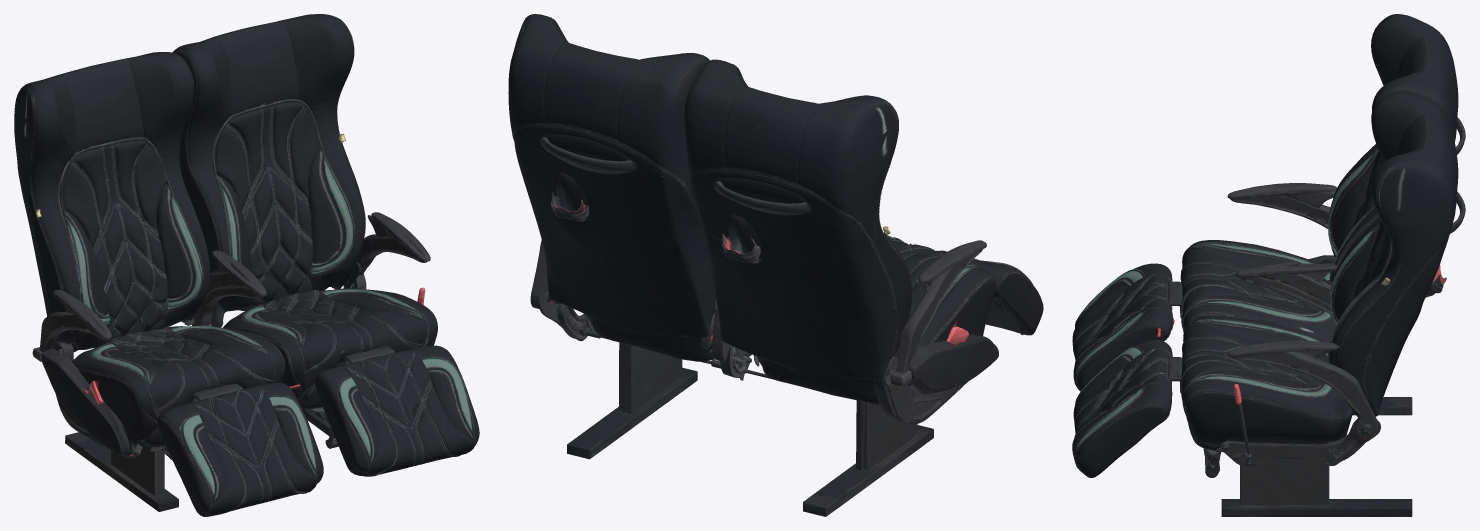
Rendered from twin-seat-meshy.glb.
The picture shows the model from 3 angles, left to right: view 1: azimuth 30°, elevation 25°; view 2: azimuth 150°, elevation 25°; view 3: azimuth 270°, elevation 25°; orthographic projection. The views are drawn at different scales.
Parts seen in each view (by area): view 1: leather_pattern, leather_main, leather_accent; view 2: leather_main, leather_pattern; view 3: leather_pattern, leather_main, leather_accent.
Boxes of the visible parts, x1=… form: leather_pattern: x1=36, y1=55, x2=478, y2=510; leather_main: x1=14, y1=14, x2=479, y2=516; leather_accent: x1=65, y1=117, x2=473, y2=496; leather_main: x1=508, y1=14, x2=1043, y2=516; leather_pattern: x1=540, y1=125, x2=1037, y2=514; leather_pattern: x1=1072, y1=117, x2=1465, y2=516; leather_main: x1=1072, y1=14, x2=1465, y2=516; leather_accent: x1=1075, y1=153, x2=1411, y2=516.
Bounding box in the file's own units: 0.1138 × 0.12 × 0.1145.
Materials: 4 (4 with a texture image).
